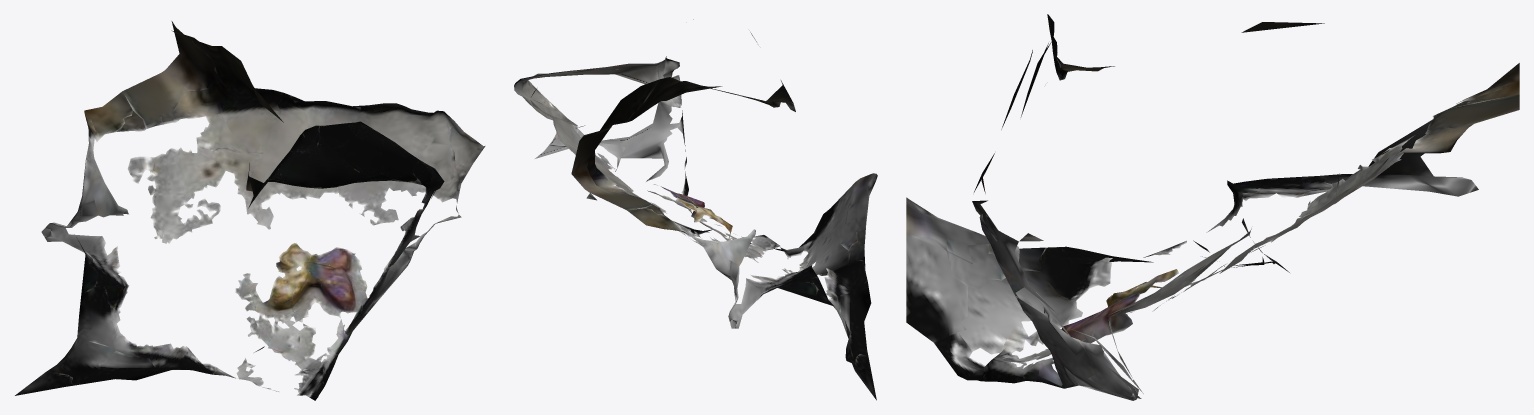
File: hall.glb
The picture shows the model from 3 angles, left to right: view 1: azimuth 30°, elevation 25°; view 2: azimuth 150°, elevation 25°; view 3: azimuth 270°, elevation 25°; orthographic projection. The views are drawn at different scales.
Bounding box in the file's own units: 1.35 × 0.8459 × 1.12.
1 material, 1 textured.
